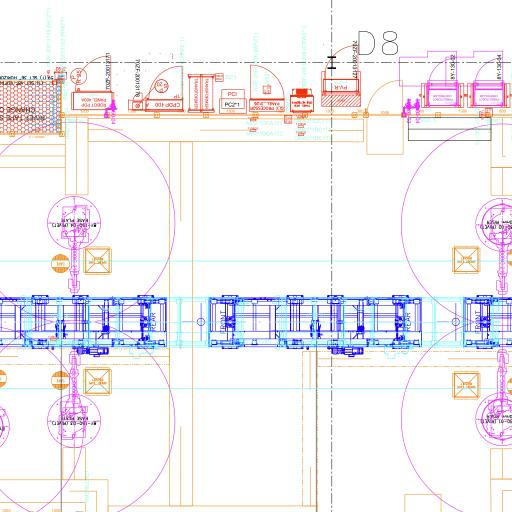robot: (44, 346, 104, 451), (44, 192, 104, 295)
